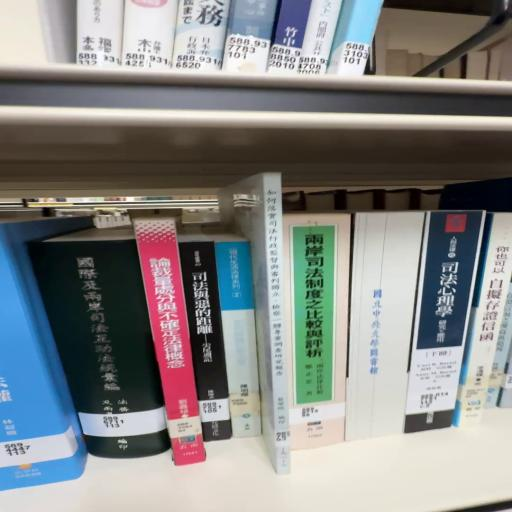backward: (343, 214, 420, 442)
book: (27, 228, 174, 462), (138, 218, 209, 466), (178, 234, 247, 446), (287, 216, 355, 409), (214, 231, 262, 442)
